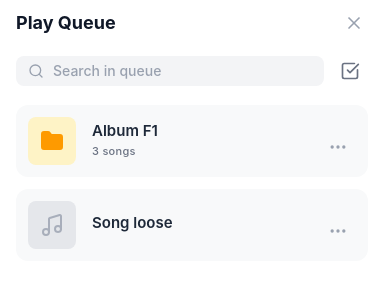
Test: QueuePanel folder drill-down › click Remove Folder from Queue → cả group rời queue, ở lại root, không drill-down
This screenshot has width=385, height=293.
Click the button named "More actions" in the row of "Album F1": x=338, y=147 [320,129,356,165]
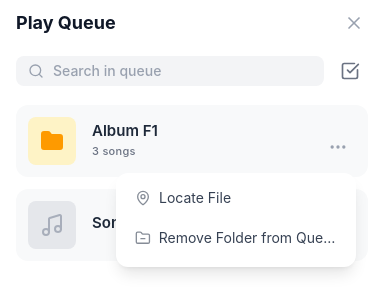
Click the menu item "Remove Folder from Queue": x=236, y=238 [123,220,349,256]
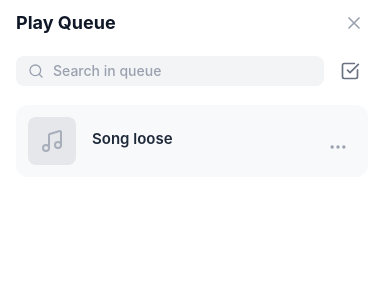
Expected: the heading "Song loose" is shown, [92,130,172,148]
Expected: the cell with test id "queue-folder-row" is gone
